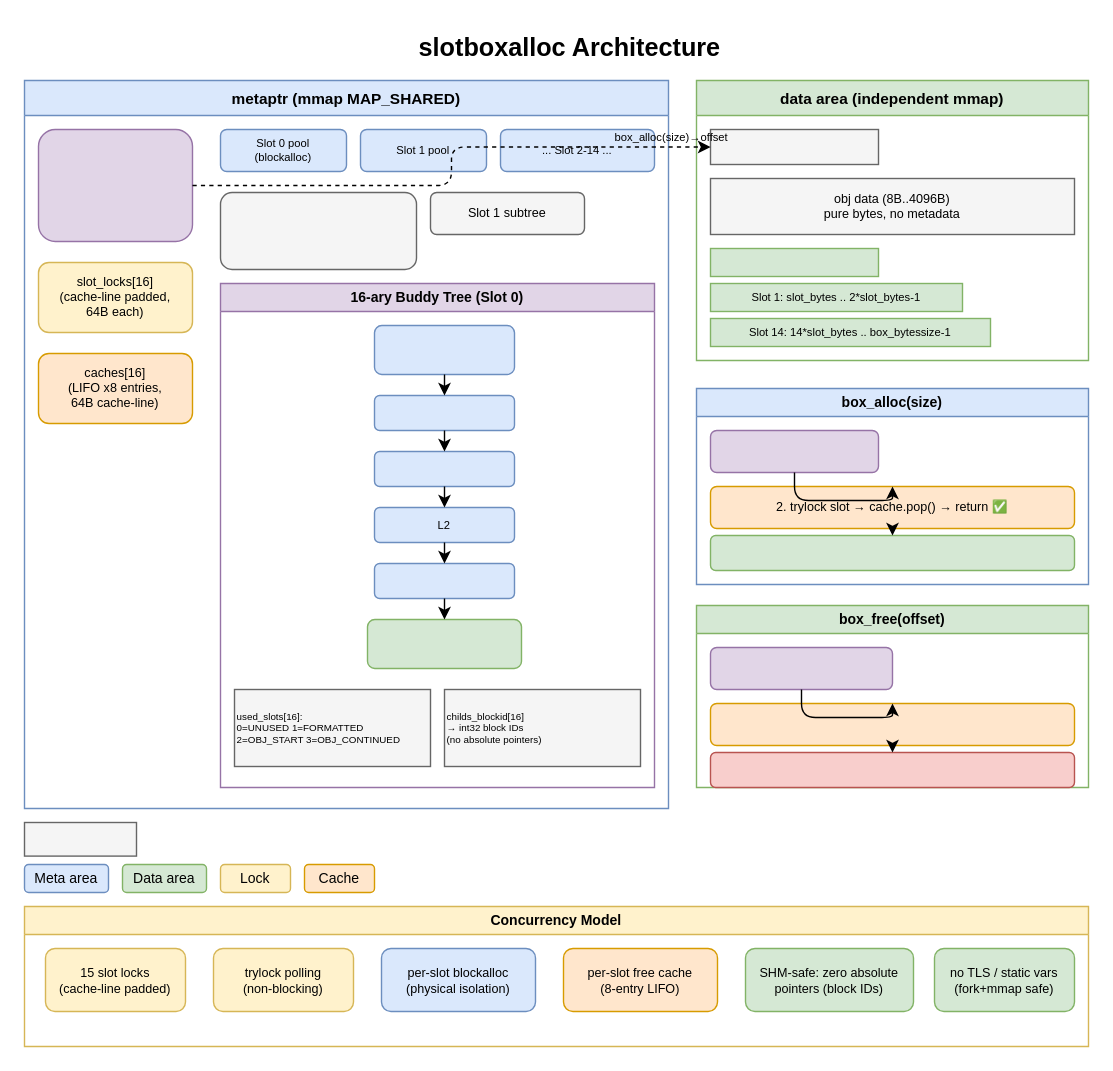
Image size: 1113x1071. Some labels were removed from this diagram. The shapes that lost their labels are listed below. From the top down, each one's centre as x and y in pixels, then its label:
At (x=793, y=146): "offset 0".
At (x=114, y=184): "box_meta_t magic[16] slot_block[16] slot_locks[16] caches[16]".
At (x=317, y=230): "Slot 0 subtree box_head_t nodes (128B each, cache-line aligned)".
At (x=793, y=261): "Slot 0: 0 .. slot_bytes-1".
At (x=443, y=349): "L5 root (level=5, 16 slots)".
At (x=443, y=412): "L4".
At (x=443, y=468): "L3".
At (x=793, y=450): "1. hash size→start slot".
At (x=891, y=552): "3. cache miss → tree.find_alloc() → return".
At (x=443, y=580): "L1".
At (x=444, y=643): "L0 leaf (obj slots: 8B each)".
At (x=800, y=668): "1. offset / slot_bytes → slot".
At (x=891, y=724): "2. cache.push(offset) → return ✅".
At (x=891, y=769): "3. cache full → flush oldest → tree.free()".
At (x=79, y=838): "Legend".
